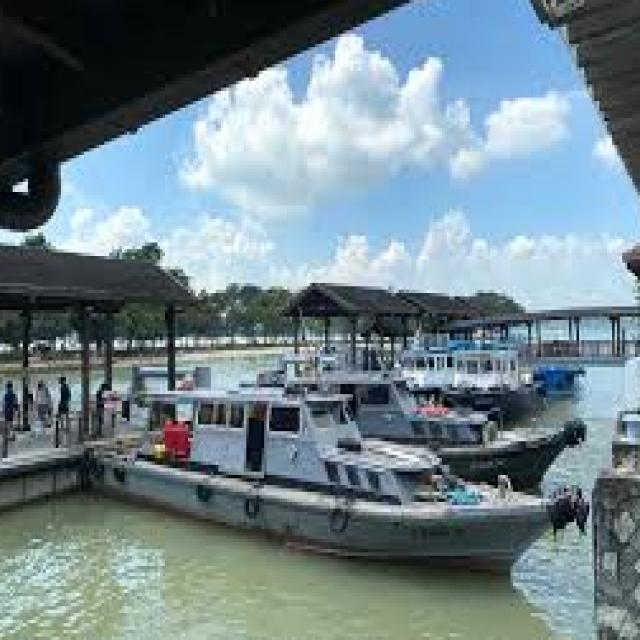fishing boat: (88, 357, 594, 563)
